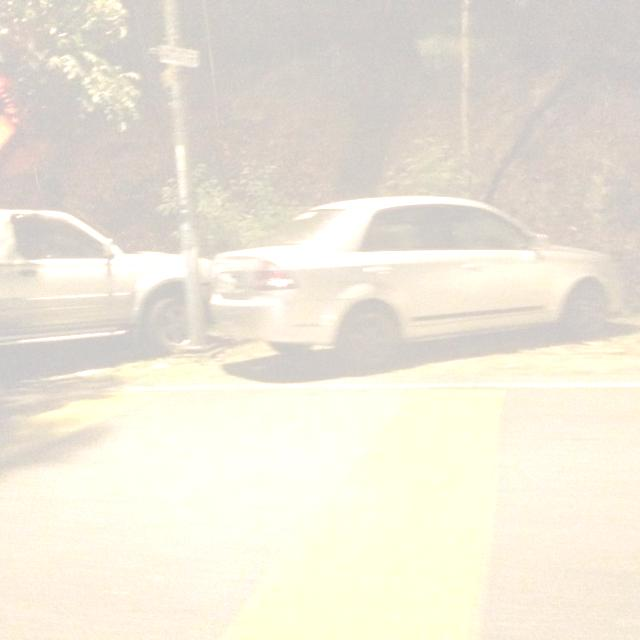Car: (210, 203, 622, 359)
